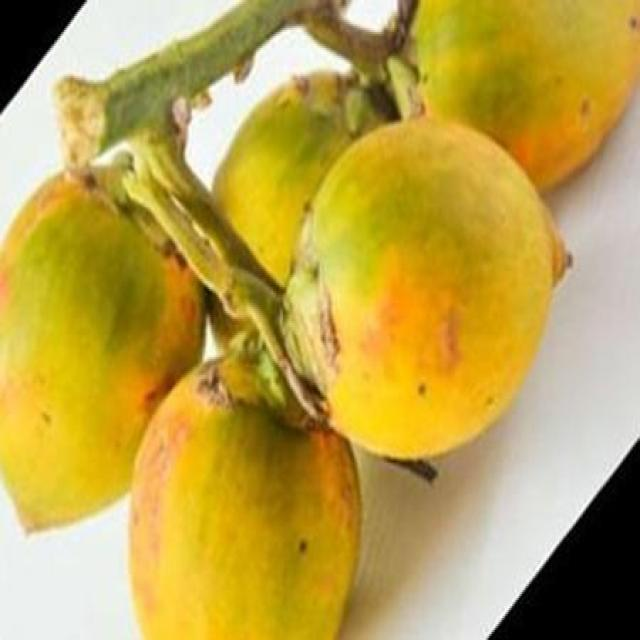good: (299, 116, 572, 467), (0, 167, 209, 536), (127, 373, 364, 638), (411, 0, 639, 195), (208, 74, 385, 289)
